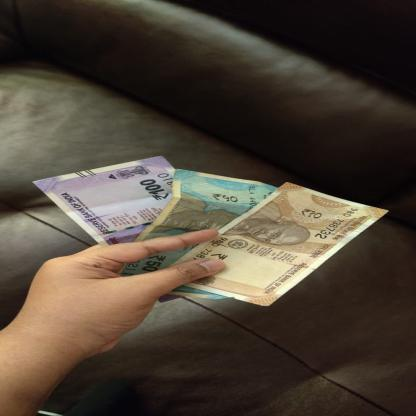New100Front: (33, 155, 176, 248)
New10Front: (167, 182, 390, 306)
New50Front: (118, 168, 281, 300)
